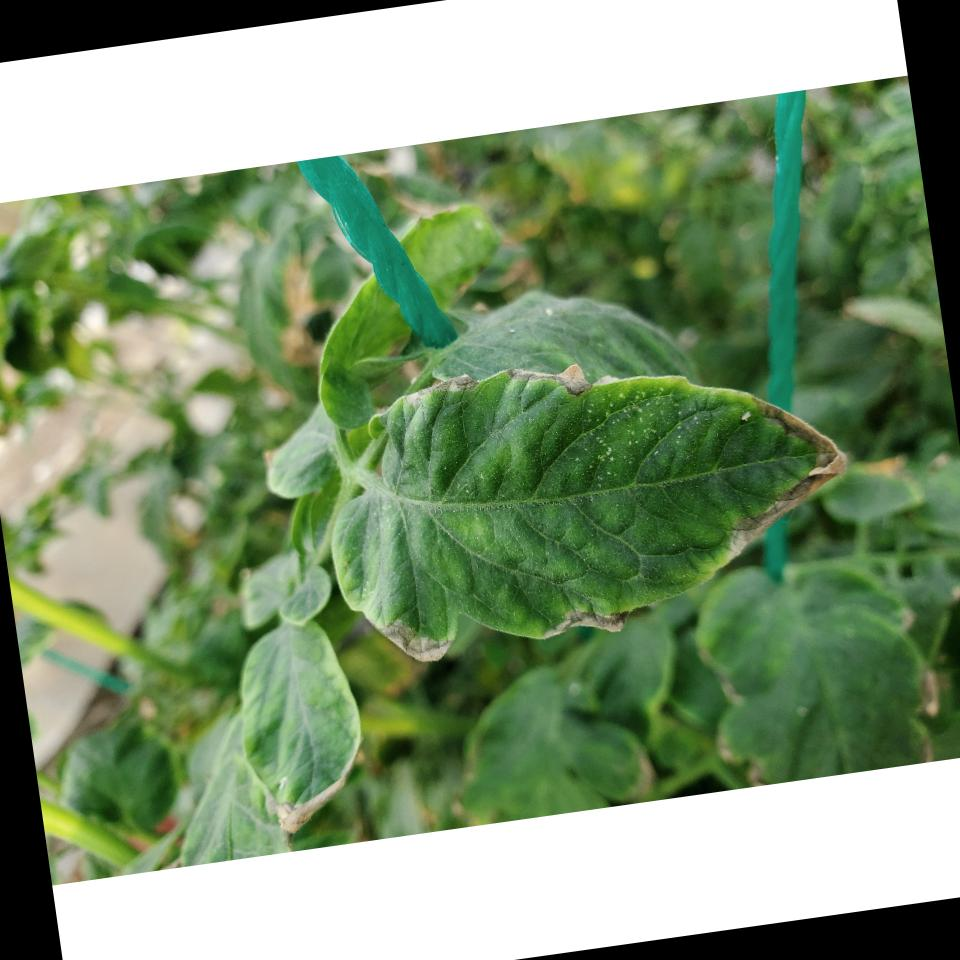tomato_bacterial_blight: (315, 313, 869, 686)
